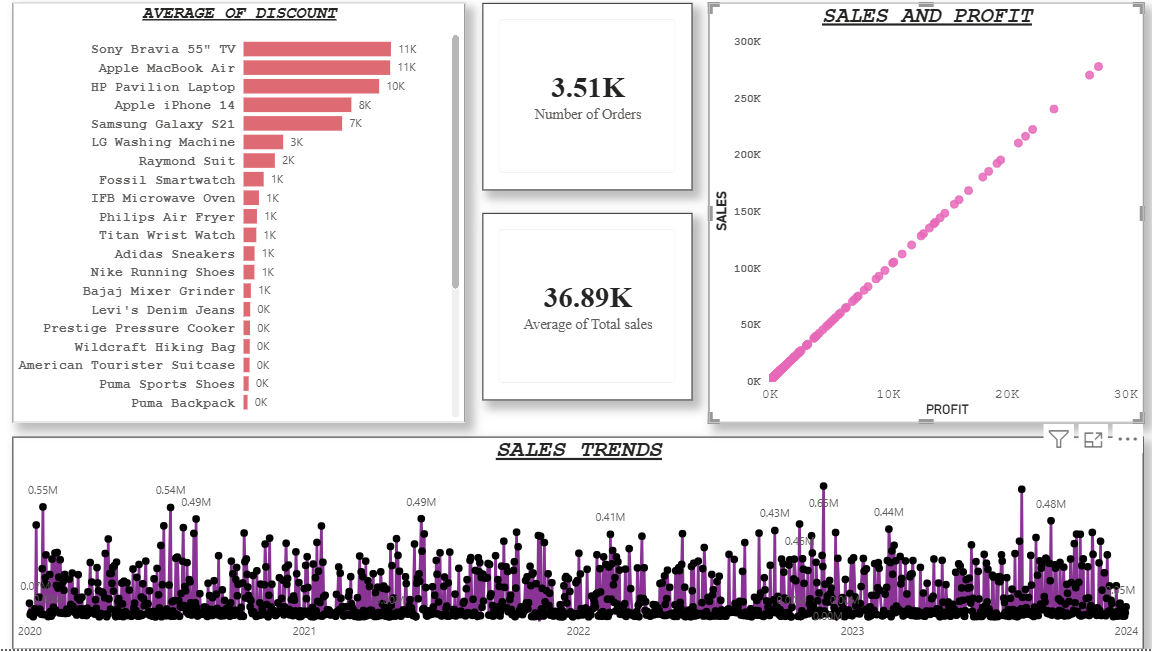

What the dashboard file says about the page in this screenshot:
{"tool":"powerbi","page":{"name":"SALES TRENDS","canvas":[1280,720],"ordinal":1},"visuals":[{"type":"lineChart","title":"SALES TRENDS","fields":{"Y":["Sum(Fact table.NET SALES)"],"Category":["Fact table.Date (dd/mm/yyyy)"]},"box":[19.2,487.1,1241.9,233.3],"z":0},{"type":"scatterChart","title":"SALES AND PROFIT","fields":{"Y":["Fact table.NET SALES"],"X":["Fact table.PROFIT"]},"box":[783.5,11,477.5,461.1],"z":1000},{"type":"barChart","title":"AVERAGE OF DISCOUNT","fields":{"Y":["Avg(Fact table.Discount value)"],"Category":["Dim Product.Product Name"]},"box":[19.2,11,496.7,461.1],"z":2000},{"type":"cardVisual","title":"DISTINCT ORDER ID","fields":{"Data":["Avg(Fact table.Total sales)"]},"box":[535.2,241.5,230.5,205.8],"z":4000},{"type":"cardVisual","title":"DISTINCT ORDER ID","fields":{"Data":["Count(Fact table.ORDER ID)"]},"box":[535.2,11,230.5,205.8],"z":4001}]}

Visuals, with their boxes in screenshot pixels (x1, y1, x2, y2), scaled from the page's 1280x720 canvas onto the 1152x652 screenshot:
"SALES TRENDS" lineChart: 17, 441, 1135, 651
"SALES AND PROFIT" scatterChart: 705, 10, 1135, 428
"AVERAGE OF DISCOUNT" barChart: 17, 10, 464, 428
"DISTINCT ORDER ID" cardVisual: 482, 219, 689, 405
"DISTINCT ORDER ID" cardVisual: 482, 10, 689, 196
